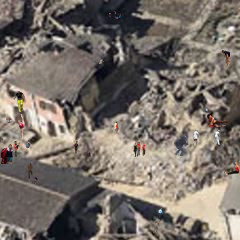Human: (193, 129, 222, 146), (203, 50, 230, 68), (13, 140, 34, 160), (206, 114, 232, 128), (173, 135, 189, 156), (13, 114, 25, 139), (0, 144, 14, 164), (13, 91, 25, 113), (225, 161, 240, 175), (104, 11, 123, 22), (133, 141, 146, 157), (26, 163, 33, 179), (158, 208, 168, 219), (74, 141, 79, 154), (114, 121, 119, 134), (153, 221, 158, 233), (99, 59, 104, 68), (6, 117, 12, 123), (34, 176, 38, 184), (88, 151, 91, 159), (205, 108, 209, 113), (48, 39, 53, 41), (1, 138, 3, 143)
